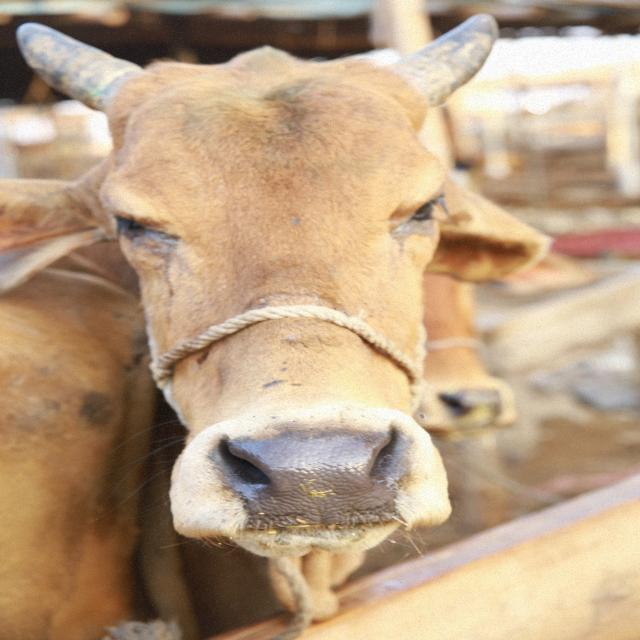muzzles: (203, 422, 429, 534)
